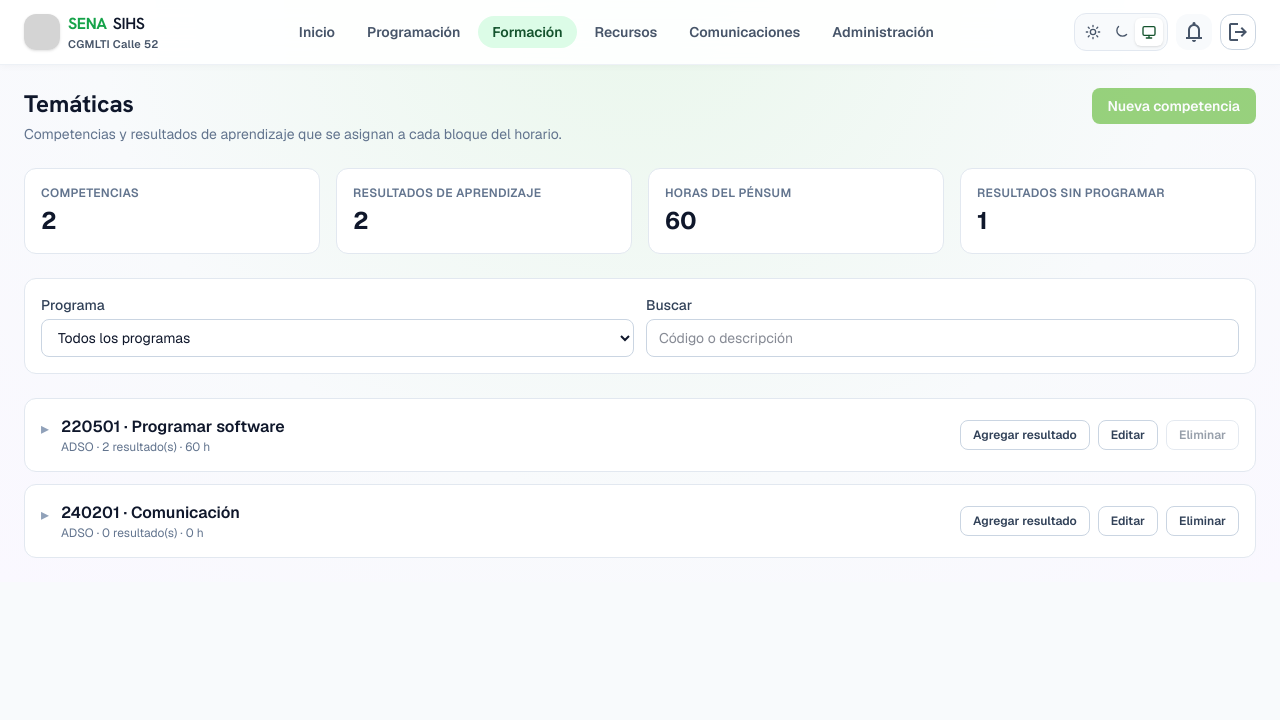
Test case: Tematicas › lista competencias con su resumen y despliega los resultados
Expected: the text "1" is shown, [977,205,988,236]
Expected: the text "Codificar módulos" is not shown
What coordinates should you click on to do the following:
click the text "220501 · Programar software"
I would click on:
 (173, 427)
Its box is [61,415,285,439].
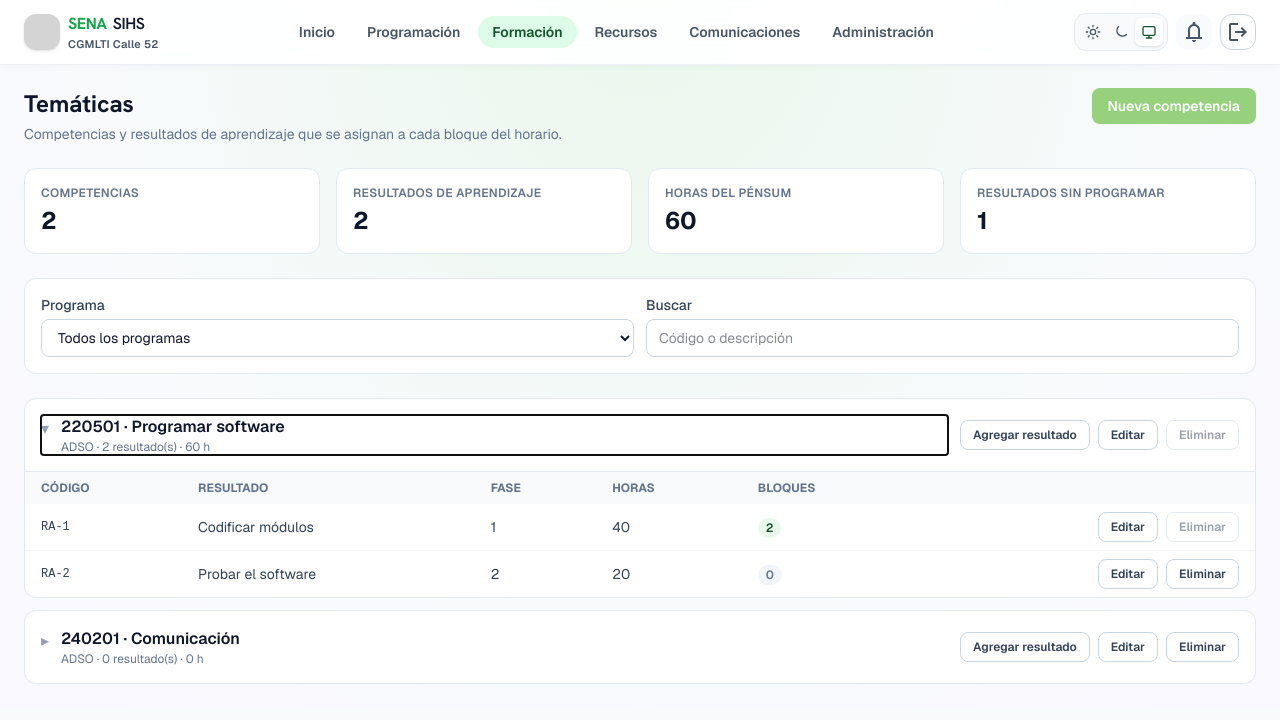
Expected: the text "Codificar módulos" is shown, [182,504,475,550]
Expected: the text "Probar el software" is shown, [182,550,475,597]
